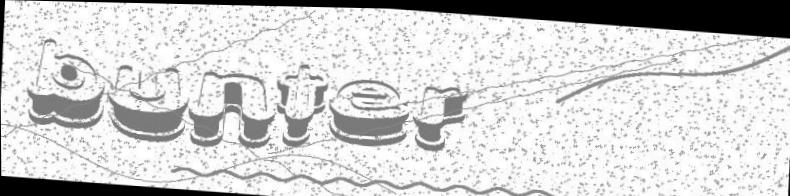b: (21, 34, 111, 129)
e: (326, 72, 413, 149)
n: (186, 66, 279, 153)
r: (411, 78, 468, 151)
t: (272, 56, 331, 146)
u: (106, 59, 189, 143)
